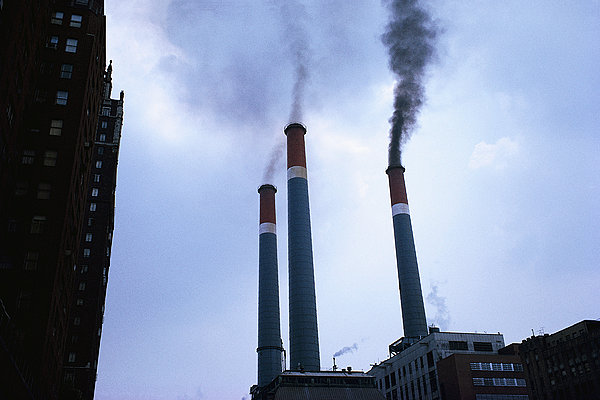dust: (369, 15, 450, 165), (279, 51, 332, 137), (248, 139, 284, 196)
